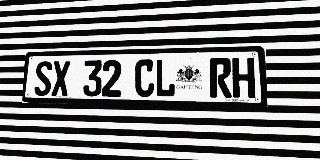2: (102, 60, 121, 97)
3: (83, 60, 102, 96)
C: (135, 59, 155, 97)
H: (232, 57, 255, 98)
L: (155, 59, 175, 97)
R: (210, 58, 232, 98)
S: (34, 61, 52, 96)
X: (51, 61, 70, 96)
